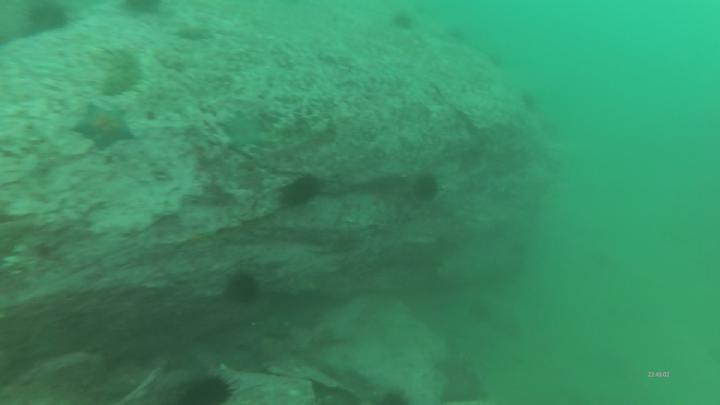echinus: (220, 267, 268, 310), (181, 373, 240, 405), (280, 169, 322, 213), (27, 1, 71, 36), (409, 170, 441, 208), (467, 296, 496, 326), (390, 8, 416, 34), (125, 1, 165, 17), (520, 90, 538, 115)
starfish: (69, 99, 139, 154), (217, 108, 271, 154)
